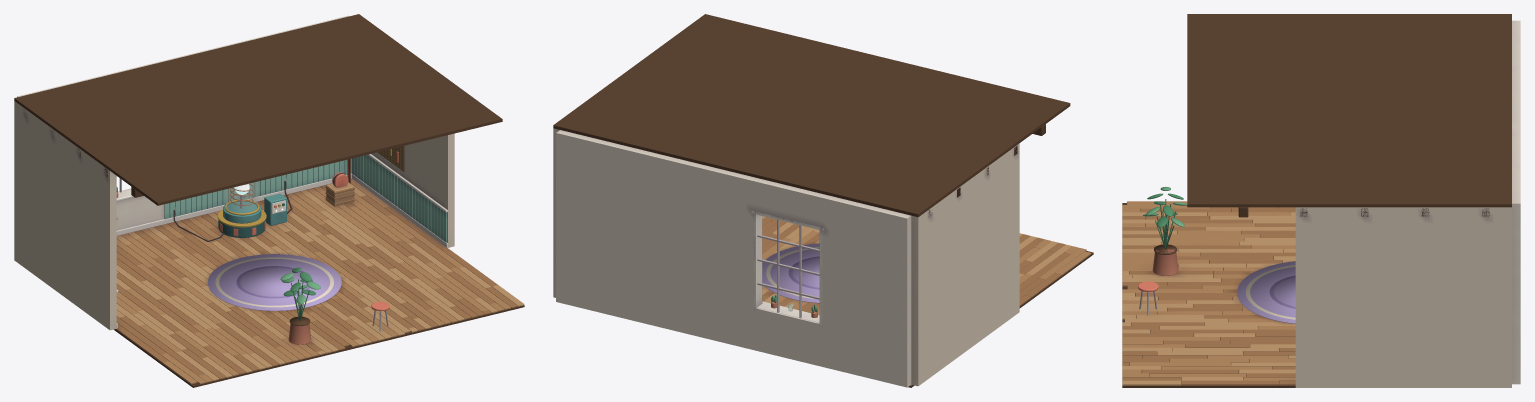
The model's file is home-lab-v2.glb.
3 renders of one model, left to right at view 1: azimuth 30°, elevation 25°; view 2: azimuth 150°, elevation 25°; view 3: azimuth 270°, elevation 25°, orthographic. The views are drawn at different scales.
Parts seen in each view (by area): view 1: set_beam, set_plaster_dk, set_wood_b, set_wood_a, set_wood_c, set_wainscot, set_lavender, set_trim, set_plaster, set_teal, set_bell_glass_noshadow, set_cream_fabric (+5 smaller); view 2: set_beam, set_plaster, set_plaster_dk, set_trim, set_wood_b, set_lavender, set_wood_a, set_wood_c; view 3: set_beam, set_plaster_dk, set_wood_b, set_wood_c, set_wood_a, set_plaster, set_lavender, set_leaf_dk, set_pot, set_cream_fabric.
Part boxes in pixels (bbox=[...]): set_beam: bbox=[14, 14, 524, 387]; set_plaster_dk: bbox=[14, 101, 454, 330]; set_wood_b: bbox=[115, 185, 517, 379]; set_wood_a: bbox=[116, 178, 510, 384]; set_wood_c: bbox=[116, 182, 524, 381]; set_wainscot: bbox=[164, 155, 446, 242]; set_lavender: bbox=[207, 254, 341, 310]; set_trim: bbox=[116, 154, 447, 328]; set_plaster: bbox=[17, 15, 351, 230]; set_teal: bbox=[223, 193, 286, 225]; set_bell_glass_noshadow: bbox=[226, 182, 257, 212]; set_cream_fabric: bbox=[215, 257, 333, 307]; set_beam: bbox=[553, 14, 1093, 387]; set_plaster: bbox=[556, 130, 911, 387]; set_plaster_dk: bbox=[553, 128, 1019, 386]; set_trim: bbox=[751, 210, 824, 325]; set_wood_b: bbox=[762, 217, 1070, 312]; set_lavender: bbox=[762, 243, 819, 303]; set_wood_a: bbox=[762, 231, 1091, 315]; set_wood_c: bbox=[762, 216, 1072, 385]; set_beam: bbox=[1122, 14, 1511, 387]; set_plaster_dk: bbox=[1295, 207, 1511, 387]; set_wood_b: bbox=[1122, 207, 1295, 385]; set_wood_c: bbox=[1122, 212, 1295, 385]; set_wood_a: bbox=[1122, 201, 1295, 380]; set_plaster: bbox=[1512, 20, 1520, 384]; set_lavender: bbox=[1237, 261, 1295, 323]; set_leaf_dk: bbox=[1147, 193, 1183, 249]; set_pot: bbox=[1152, 249, 1178, 275]; set_cream_fabric: bbox=[1245, 265, 1295, 319].
Size of the model in its own units: 10.4 by 4.77 by 9.2.
Materials: 55 (6 with a texture image).
